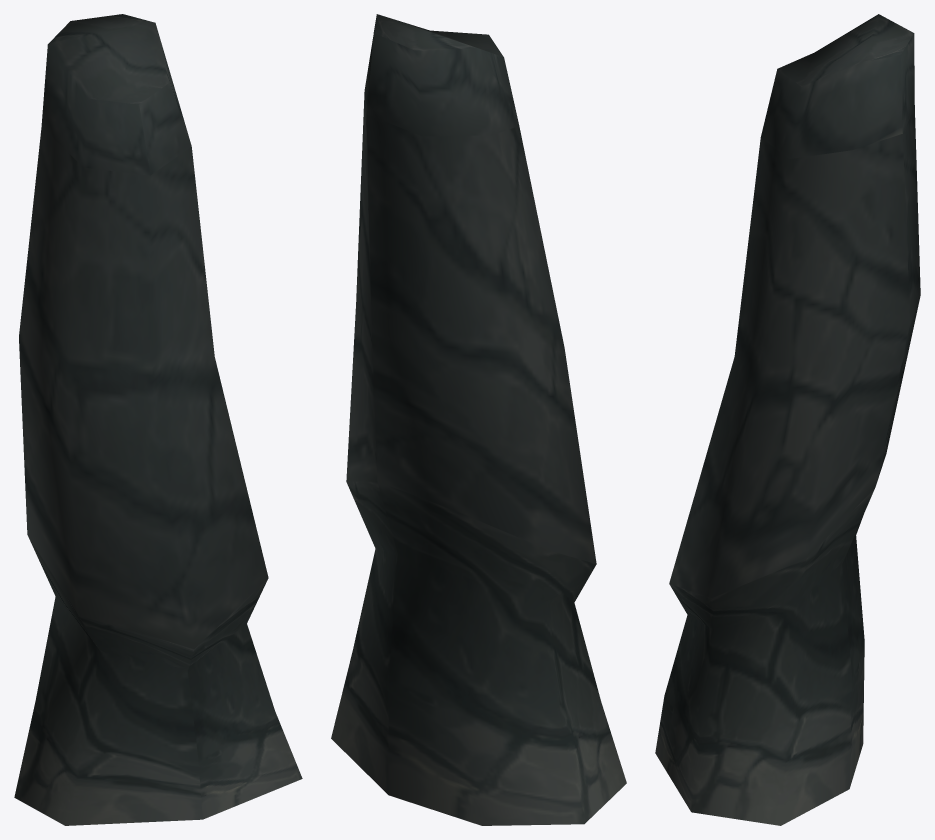
File: oTerModRock03d.FBX
3 views of the same model, side by side, from view 1: azimuth 30°, elevation 25°; view 2: azimuth 150°, elevation 25°; view 3: azimuth 270°, elevation 25° (orthographic). The views are drawn at different scales.
Parts seen in each view (by area): view 1: oTerModRock03d; view 2: oTerModRock03d; view 3: oTerModRock03d.
Part boxes in pixels (bbox=[...]): oTerModRock03d: bbox=[14, 14, 302, 825]; oTerModRock03d: bbox=[331, 14, 626, 825]; oTerModRock03d: bbox=[655, 14, 920, 825].
Bounding box in the file's own units: 12.25 × 33.84 × 11.16.
1 material, 1 textured.
